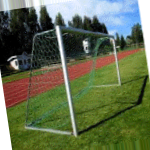goals: (21, 23, 125, 137)
